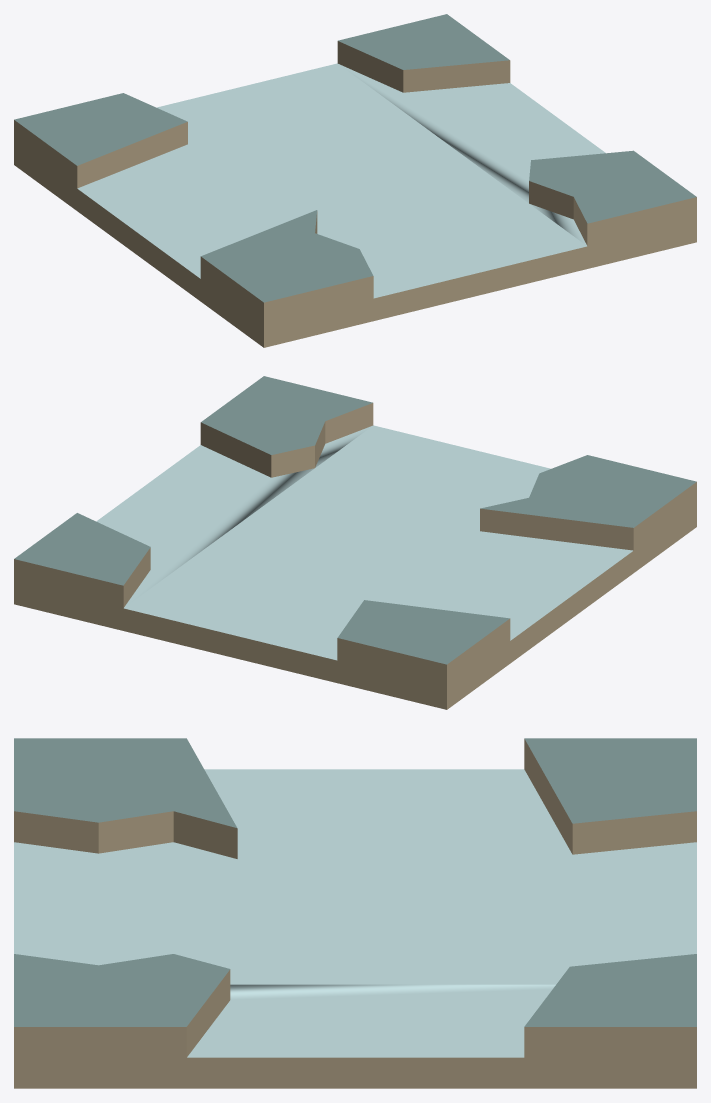
The model's file is Nature River 12.fbx.
The picture shows the model from 3 angles, top to bottom: view 1: azimuth 30°, elevation 25°; view 2: azimuth 150°, elevation 25°; view 3: azimuth 270°, elevation 25°; orthographic projection. The views are drawn at different scales.
Parts seen in each view (by area): view 1: Nature River 12; view 2: Nature River 12; view 3: Nature River 12.
Part boxes in pixels (box(x1,y1,x2,y2)): Nature River 12: box(14, 14, 696, 347); Nature River 12: box(14, 376, 696, 709); Nature River 12: box(14, 738, 696, 1088).
Bounding box in the file's own units: 3 × 0.3 × 3.
